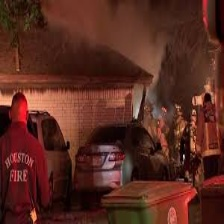smoke: (60, 3, 154, 44)
